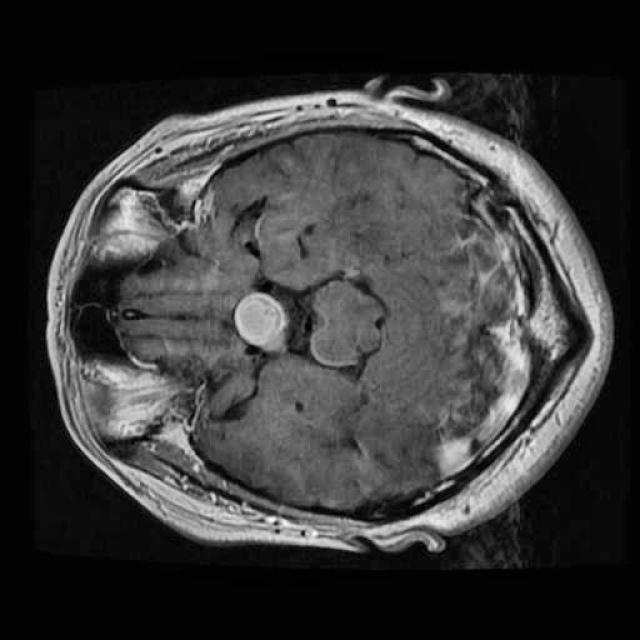Tumor: (233, 278, 296, 359)
